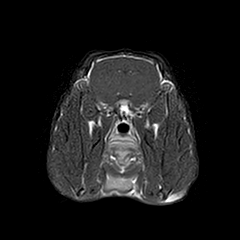Brain: (76, 23, 175, 121)
